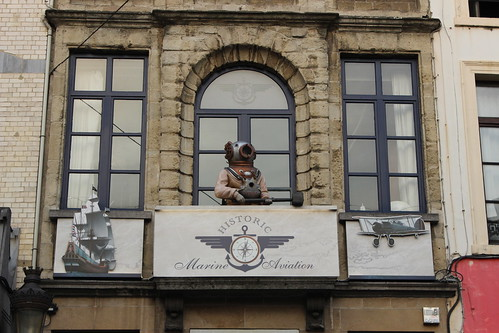sign: (54, 194, 439, 281)
window: (195, 63, 295, 205), (341, 49, 426, 209), (72, 49, 150, 206)
